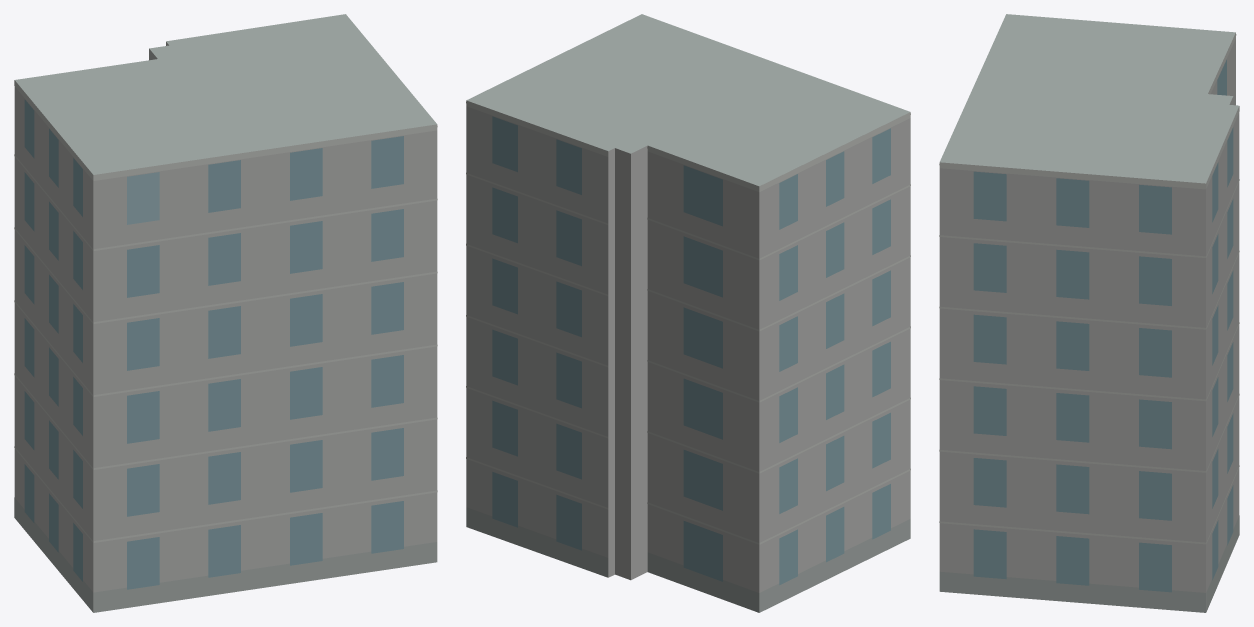
Rendered from survey-upis-33029997.glb.
The picture shows the model from 3 angles, left to right: view 1: azimuth 30°, elevation 25°; view 2: azimuth 150°, elevation 25°; view 3: azimuth 270°, elevation 25°; orthographic projection. The views are drawn at different scales.
Parts seen in each view (by area): view 1: survey-upis-33029997.tmp; view 2: survey-upis-33029997.tmp; view 3: survey-upis-33029997.tmp.
Part boxes in pixels (x1=…): survey-upis-33029997.tmp: x1=14, y1=14, x2=437, y2=612; survey-upis-33029997.tmp: x1=466, y1=14, x2=910, y2=612; survey-upis-33029997.tmp: x1=939, y1=14, x2=1239, y2=612.
Size of the model in its own units: 15.01 by 17.7 by 11.23.
